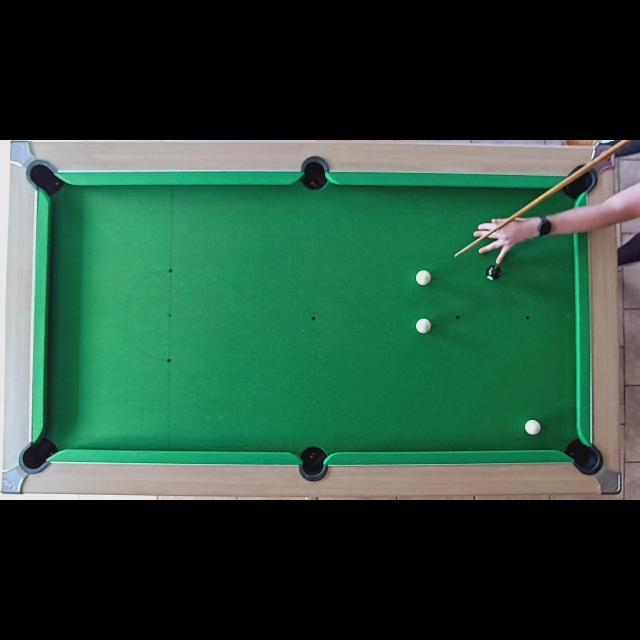Ball: (416, 318, 432, 334), (416, 270, 430, 286), (484, 266, 500, 280), (526, 420, 540, 434)
